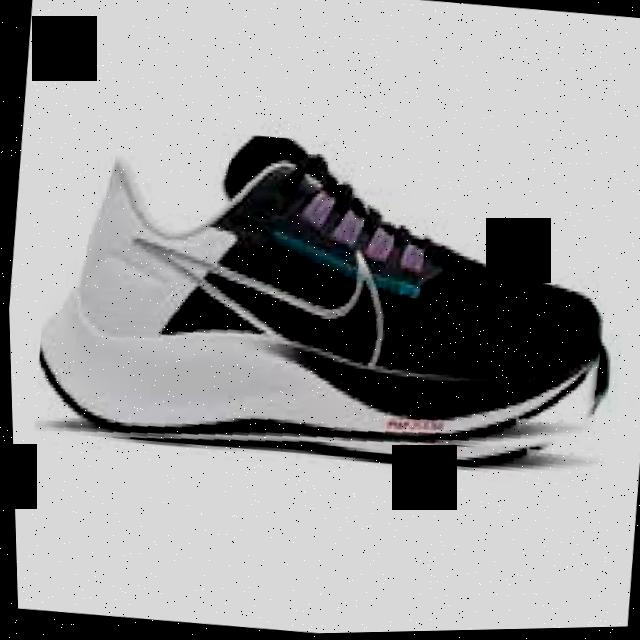shoe: (23, 109, 631, 496)
